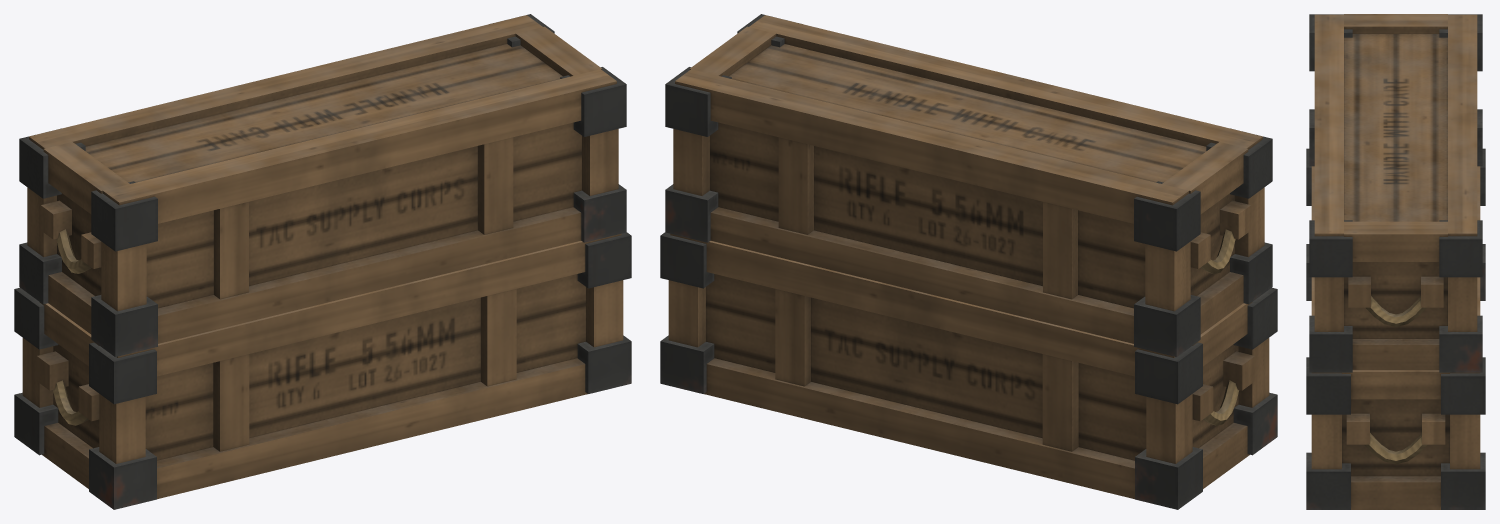
File: W2_Cover_Low.fbx
3 views of the same model, side by side, from view 1: azimuth 30°, elevation 25°; view 2: azimuth 150°, elevation 25°; view 3: azimuth 270°, elevation 25° (orthographic). The views are drawn at different scales.
Visible parts, largest first — view 1: W2_Cover_Low__W2_RifleCrate.001, W2_Cover_Low__W2_RifleCrate; view 2: W2_Cover_Low__W2_RifleCrate.001, W2_Cover_Low__W2_RifleCrate; view 3: W2_Cover_Low__W2_RifleCrate.001, W2_Cover_Low__W2_RifleCrate.
Part boxes in pixels (<box>): W2_Cover_Low__W2_RifleCrate.001: <box>19,14,626,356</box>; W2_Cover_Low__W2_RifleCrate: <box>14,232,631,509</box>; W2_Cover_Low__W2_RifleCrate.001: <box>665,14,1272,356</box>; W2_Cover_Low__W2_RifleCrate: <box>660,232,1277,509</box>; W2_Cover_Low__W2_RifleCrate.001: <box>1309,14,1482,372</box>; W2_Cover_Low__W2_RifleCrate: <box>1306,148,1485,509</box>.
Size of the model in its own units: 600 by 337 by 200.
1 material, 1 textured.
